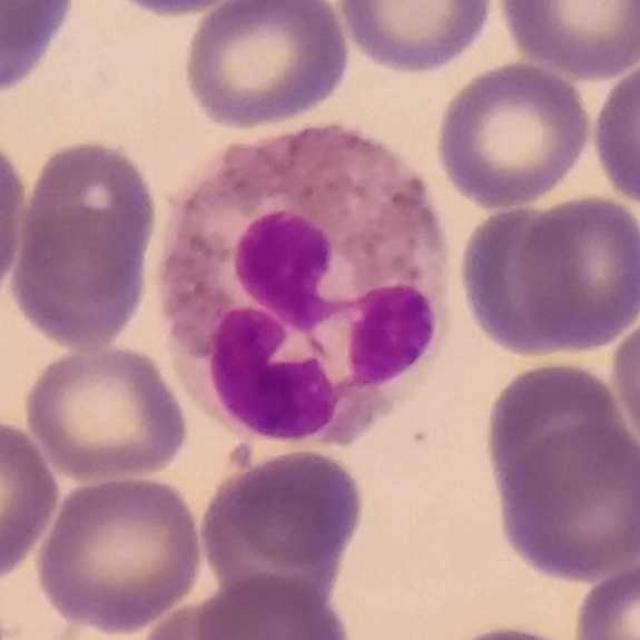eosino: (153, 127, 453, 449)
